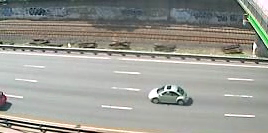car: (146, 83, 192, 107)
